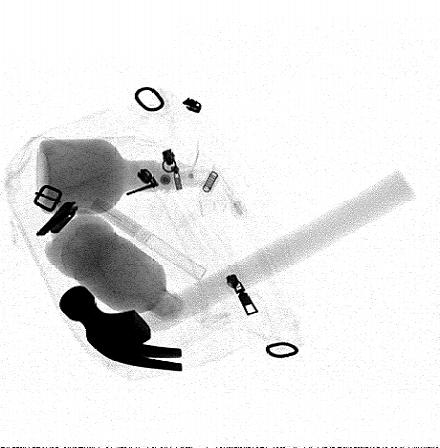Hammer: (58, 169, 417, 371)
